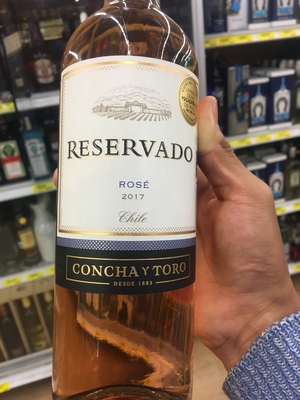reservado rose: (53, 12, 199, 395)
